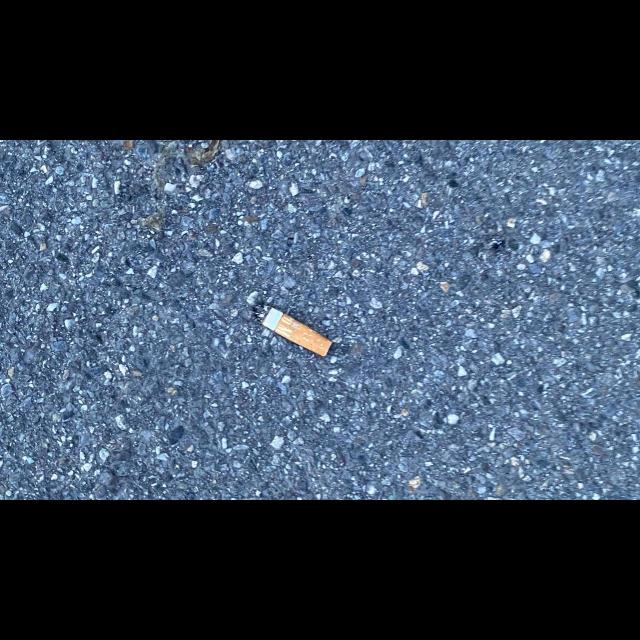cigarette: (252, 304, 332, 357)
